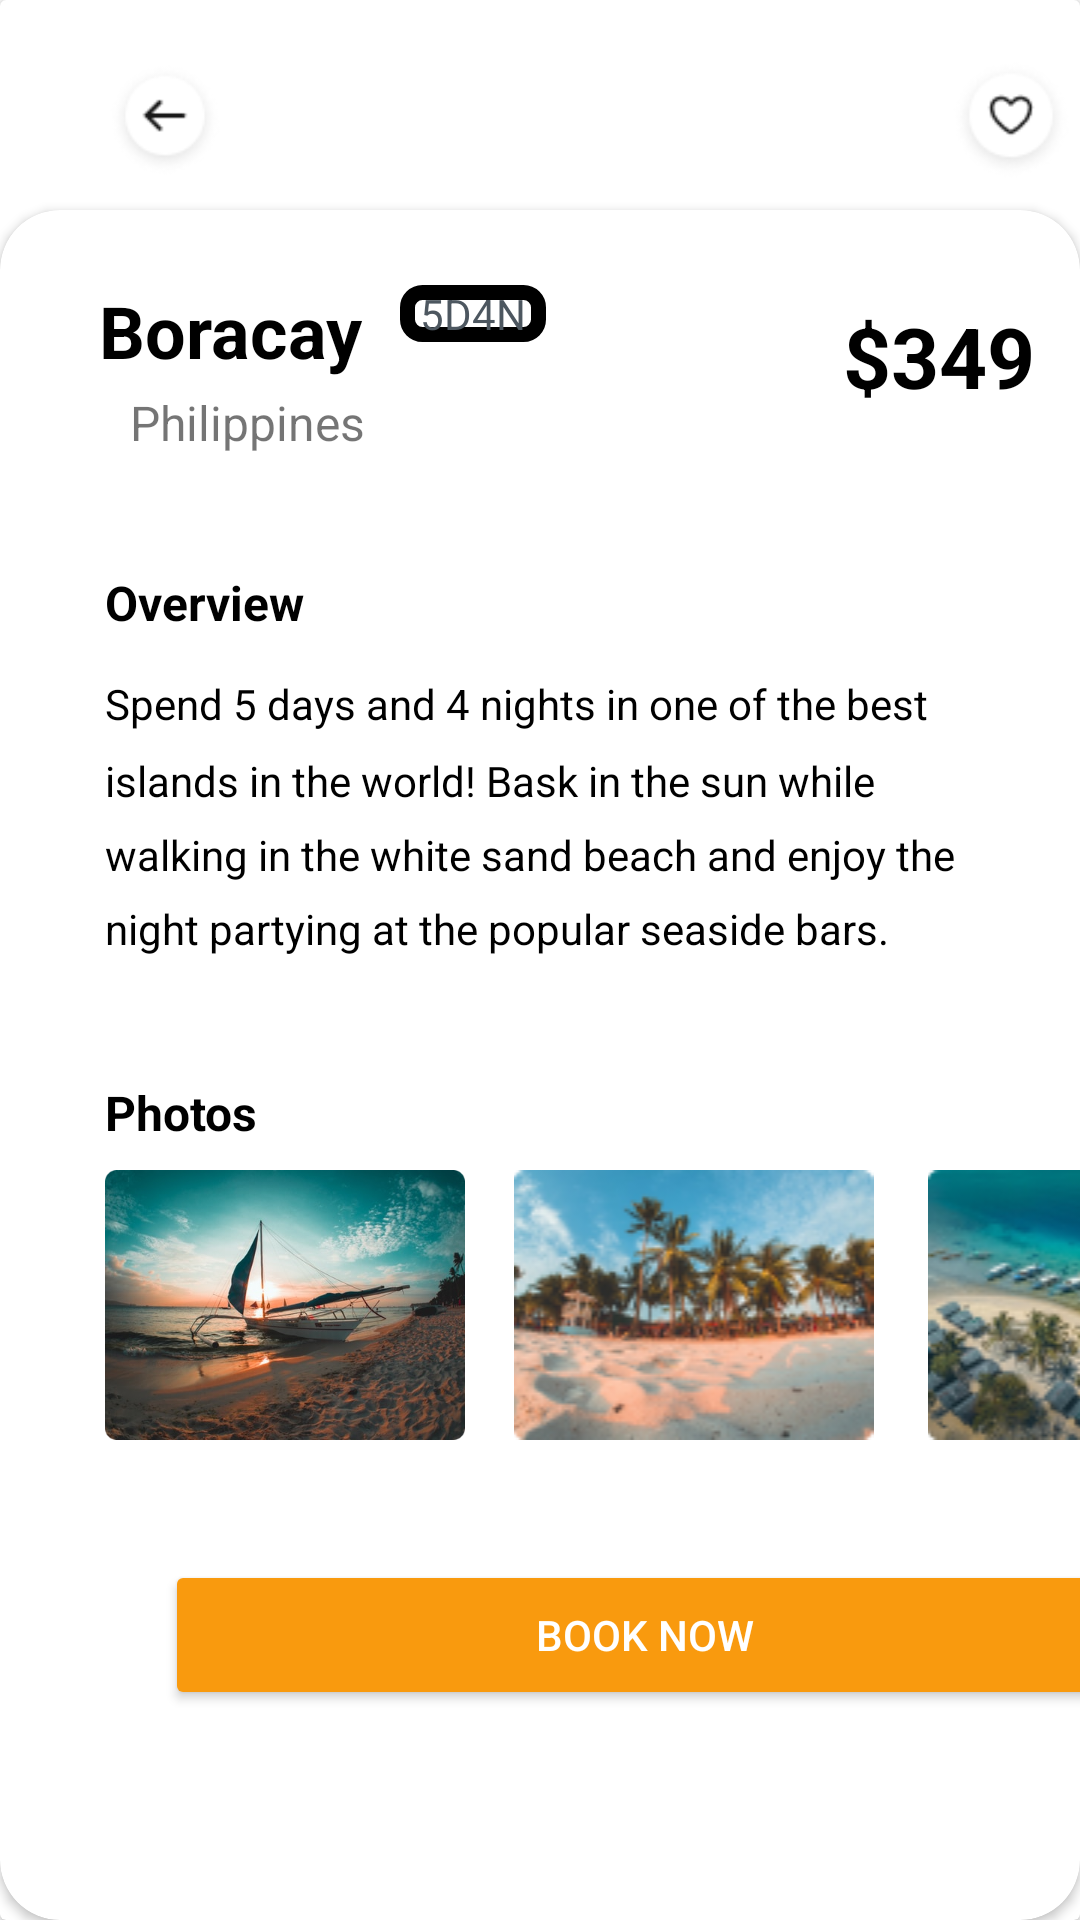

Named icons in this screenshot (1080x1920) and their centers, (x,y):
backarrow: (165,115)
heartcirculo: (1011,114)
